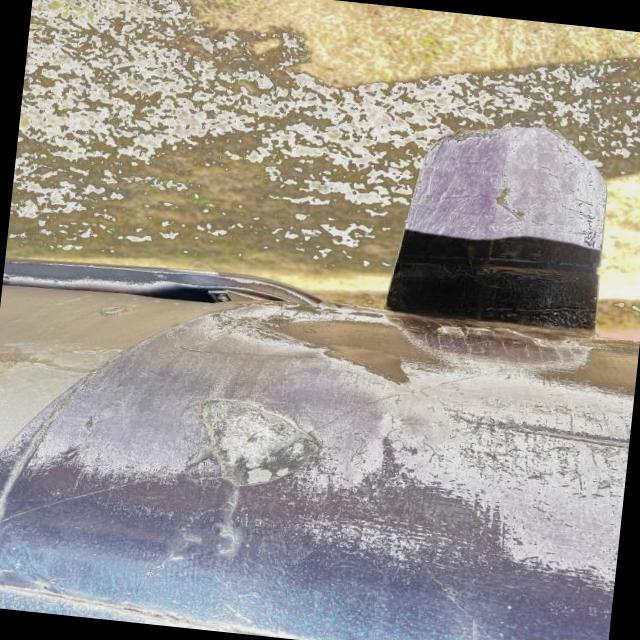crack: (179, 520, 252, 558)
dent: (174, 393, 334, 498)
